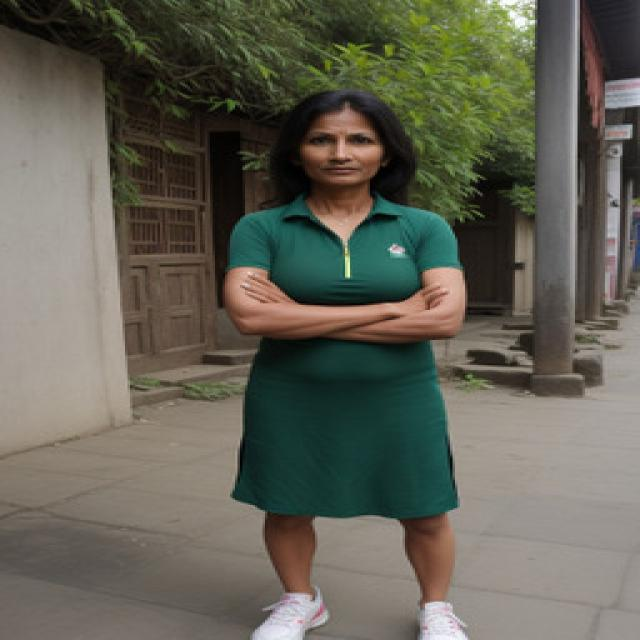Ai human 2: (212, 76, 509, 640)
